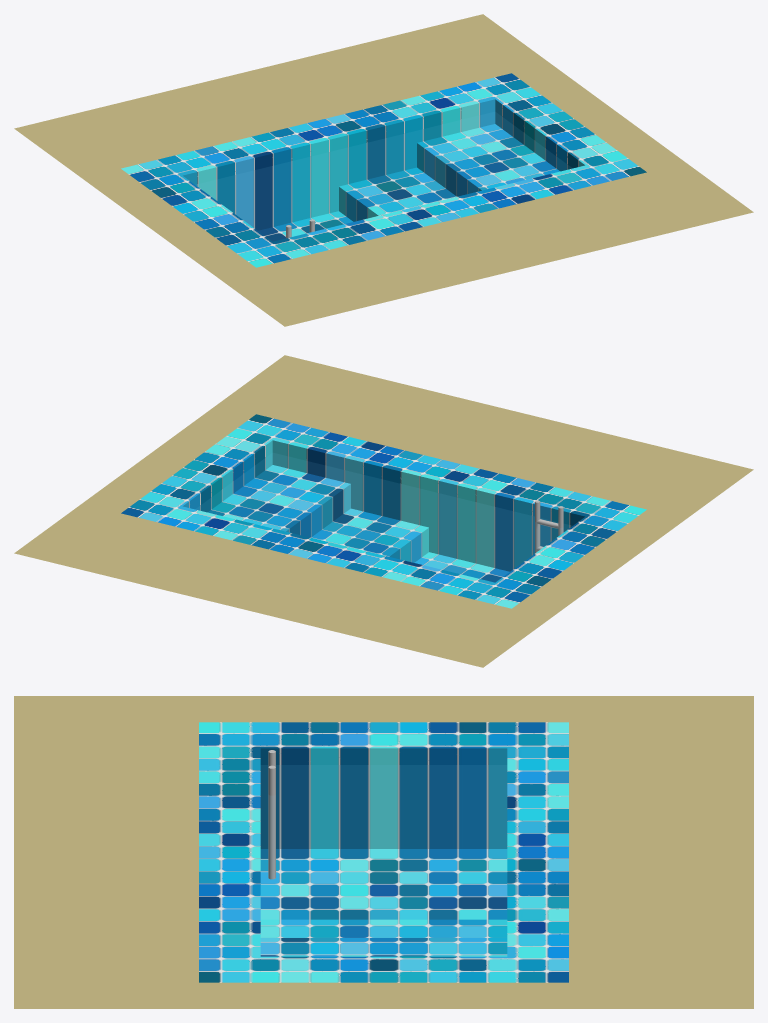
The model's file is swimmingPool.obj.
The picture shows the model from 3 angles, top to bottom: view 1: azimuth 30°, elevation 25°; view 2: azimuth 150°, elevation 25°; view 3: azimuth 270°, elevation 25°; orthographic projection. The views are drawn at different scales.
Parts seen in each view (by area): view 1: Ground, Pool; view 2: Ground, Pool, Ladder; view 3: Ground, Pool, Ladder.
Part boxes in pixels (x1,y1,x2,y2): Ground: (14, 14, 753, 326); Pool: (121, 73, 646, 267); Ground: (14, 355, 753, 667); Pool: (121, 414, 646, 608); Ladder: (535, 500, 563, 553); Ground: (14, 696, 753, 1008); Pool: (199, 722, 568, 982); Ladder: (268, 750, 275, 879).
Size of the model in its own units: 10 by 1.65 by 10.
Materials: 4 (1 with a texture image).
